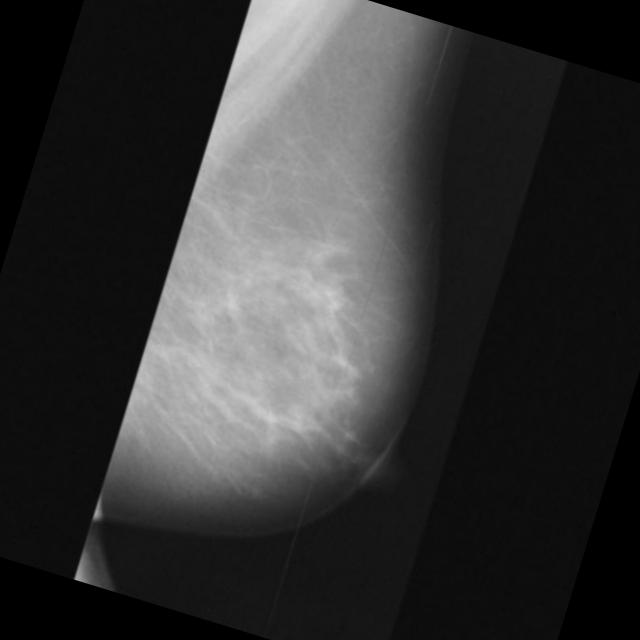CALC: (321, 284, 346, 310)
